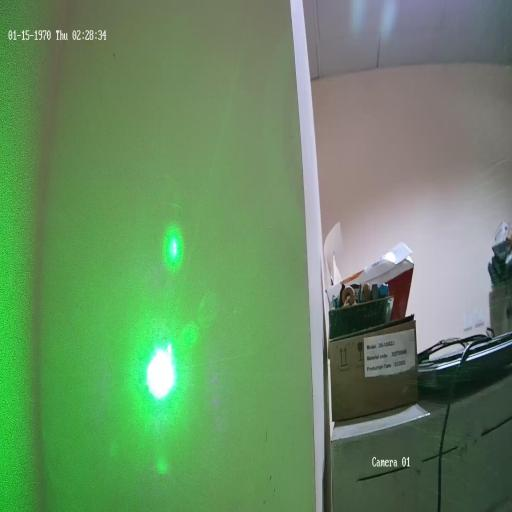laser: (141, 333, 181, 412)
